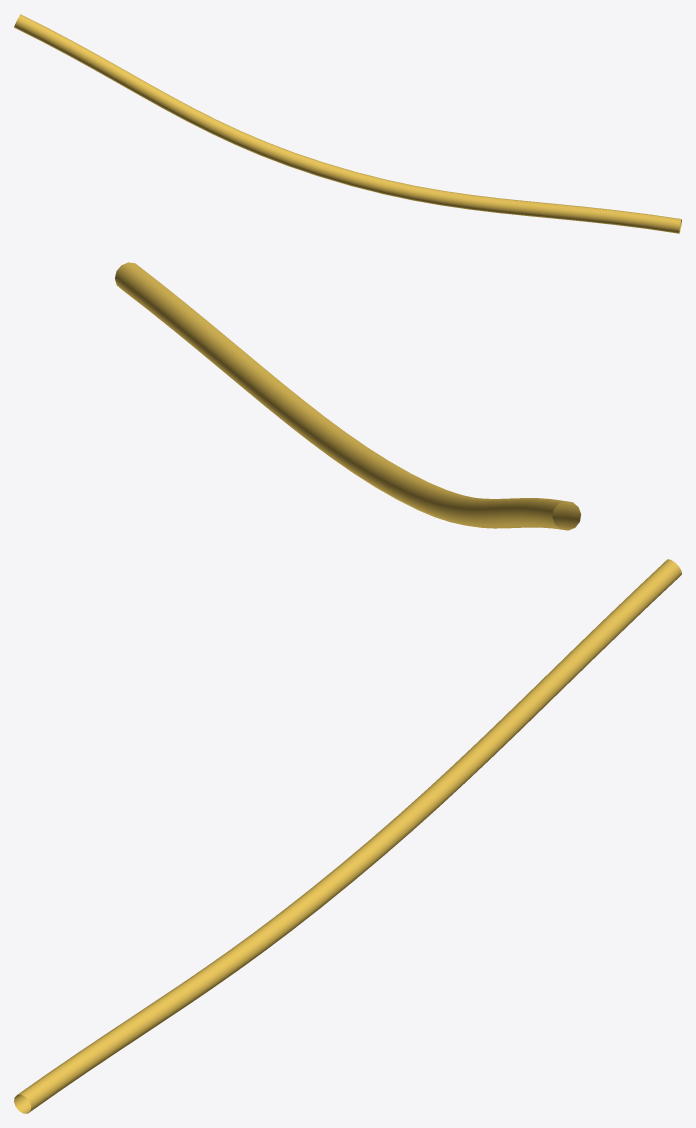
File: Infrapatellar_branch_saphenous_nerve_left.glb
The picture shows the model from 3 angles, top to bottom: view 1: azimuth 30°, elevation 25°; view 2: azimuth 150°, elevation 25°; view 3: azimuth 270°, elevation 25°; orthographic projection. The views are drawn at different scales.
Parts seen in each view (by area): view 1: Infrapatellar_branch_of_saphenous_nerve.l_BezierCurve.521; view 2: Infrapatellar_branch_of_saphenous_nerve.l_BezierCurve.521; view 3: Infrapatellar_branch_of_saphenous_nerve.l_BezierCurve.521.
Part boxes in pixels (bbox=[...]): Infrapatellar_branch_of_saphenous_nerve.l_BezierCurve.521: bbox=[14, 14, 681, 233]; Infrapatellar_branch_of_saphenous_nerve.l_BezierCurve.521: bbox=[115, 262, 581, 530]; Infrapatellar_branch_of_saphenous_nerve.l_BezierCurve.521: bbox=[14, 559, 681, 1113].
Bounding box in the file's own units: 0.0349 × 0.0121 × 0.0306.
